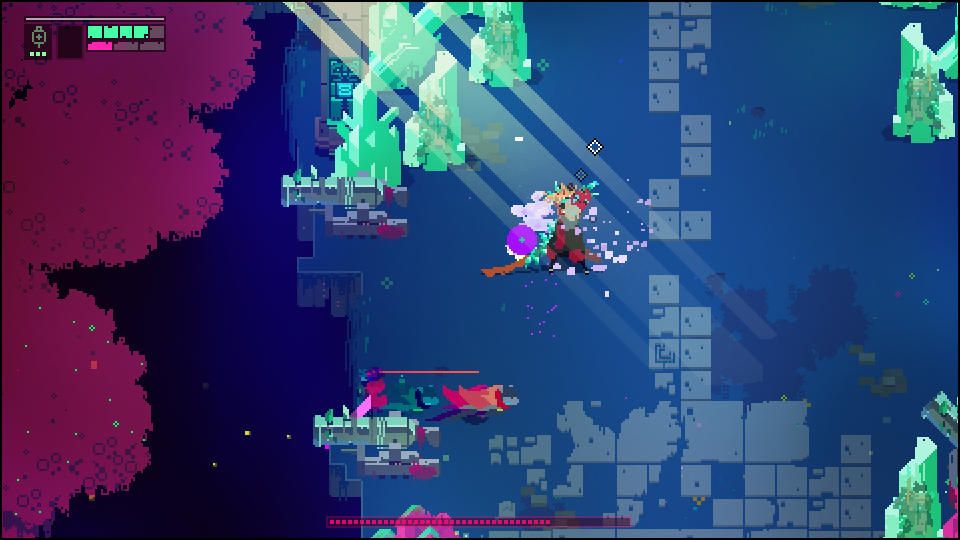hanged_man: (517, 172, 603, 282)
hanged_shot: (507, 223, 539, 253)
player: (443, 384, 520, 419)
